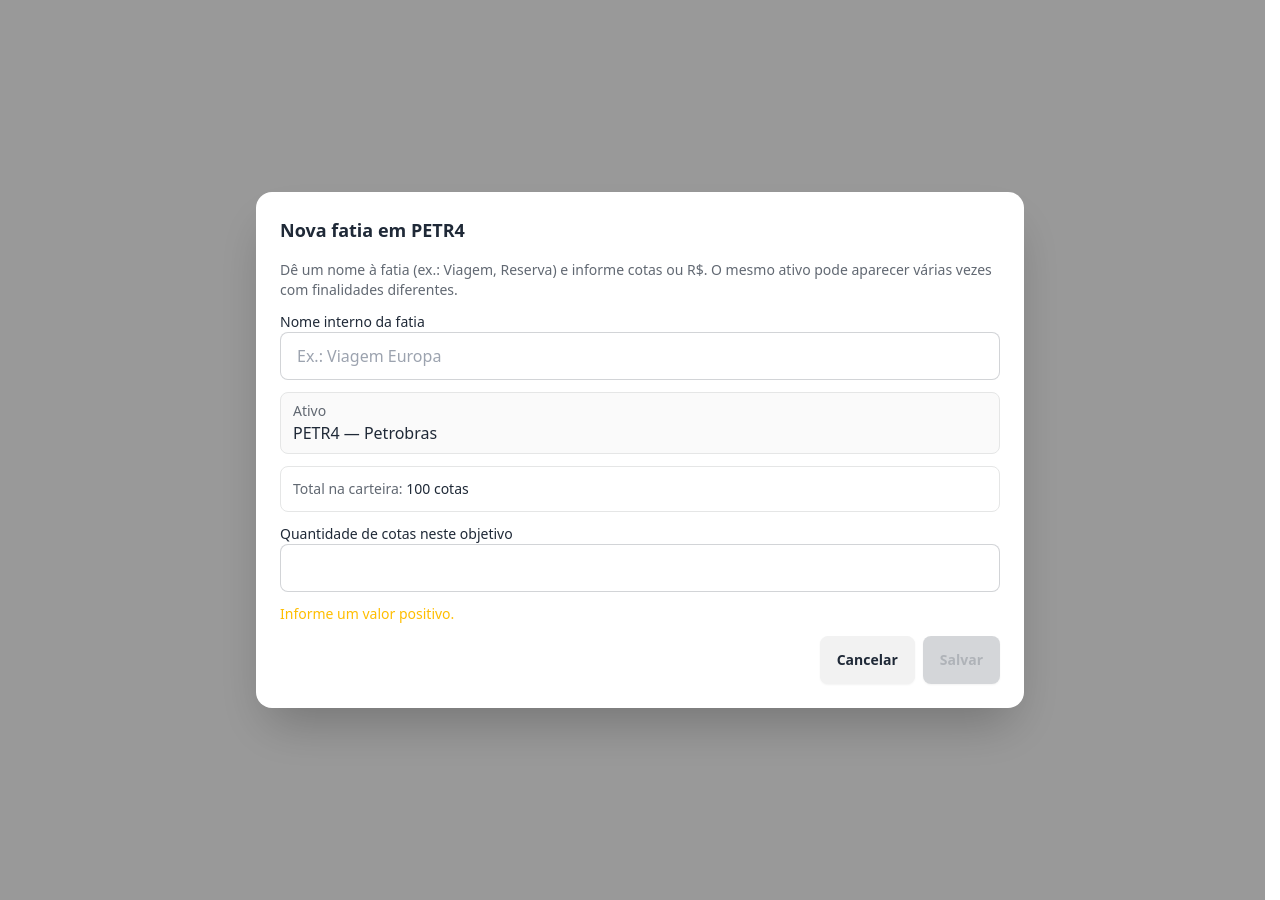
Scenario: AssetAllocationModal › monoativo exige nome interno e permite nova fatia
Expected: the element with test id "allocation-partition-asset-label" is shown, top-left (280, 392), bottom-right (1000, 454)
Type "Viagem" into the field with test id "allocation-slice-name-input" at x=640, y=356, box top-left (280, 332), bottom-right (1000, 380)
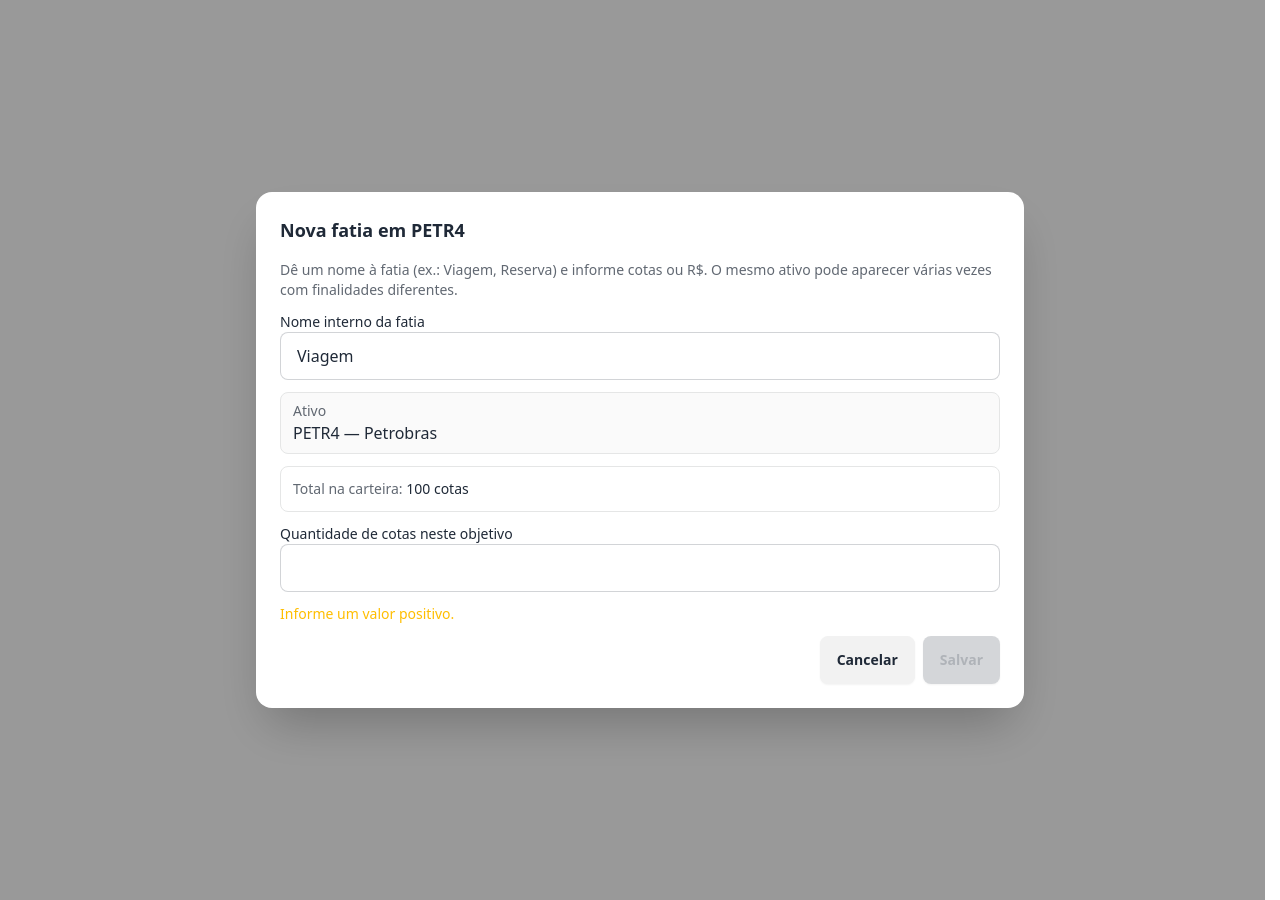
Type "10" into the number field with test id "allocation-shares-input" at x=640, y=568, box top-left (280, 544), bottom-right (1000, 592)
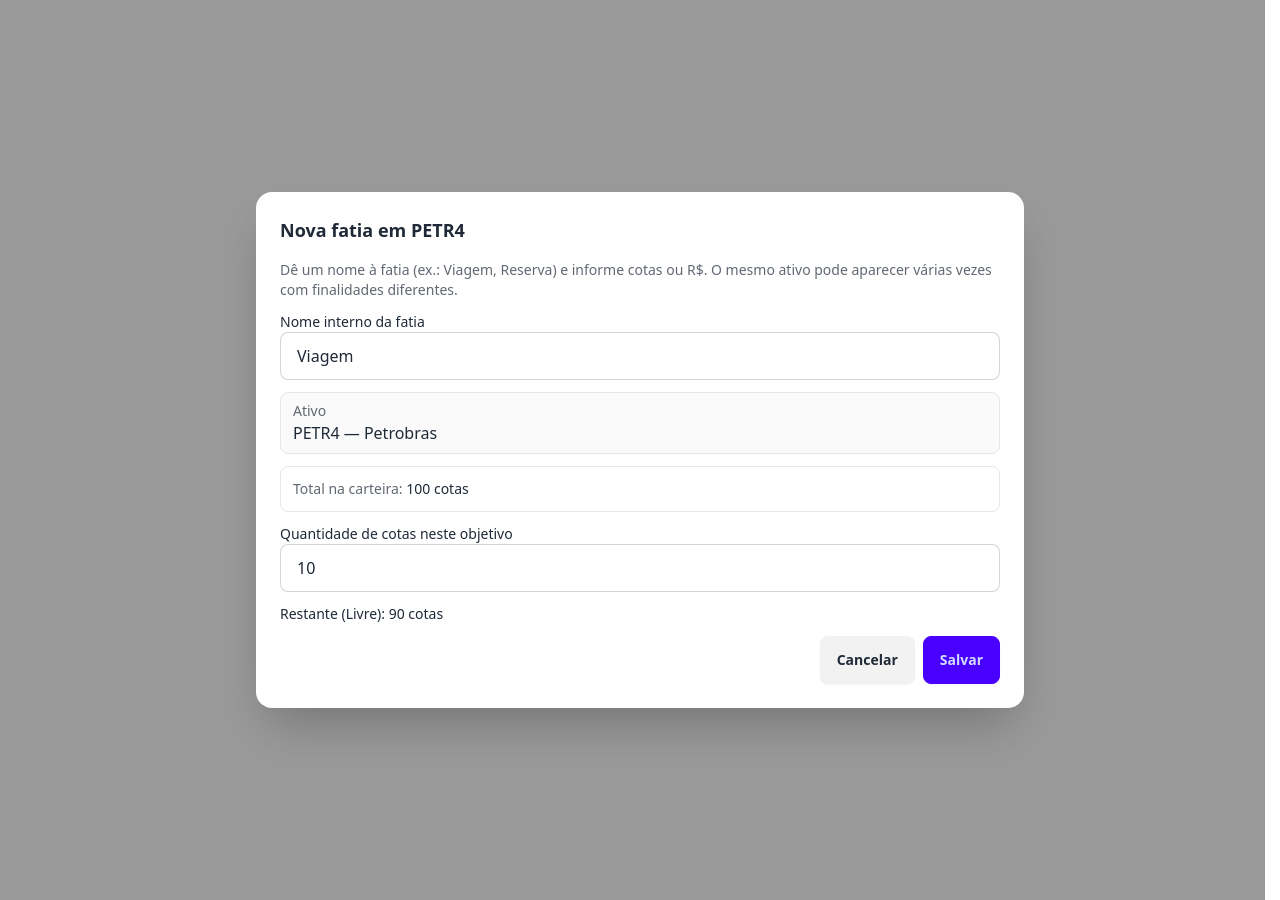
Now the button with test id "allocation-save-btn" is enabled, box top-left (923, 636), bottom-right (1000, 684)
